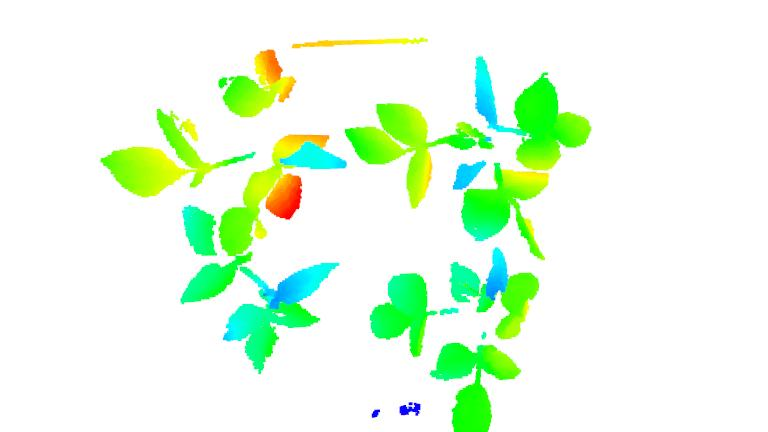mungbean: (340, 49, 601, 253), (97, 51, 337, 221), (368, 251, 544, 432), (172, 203, 341, 374)
